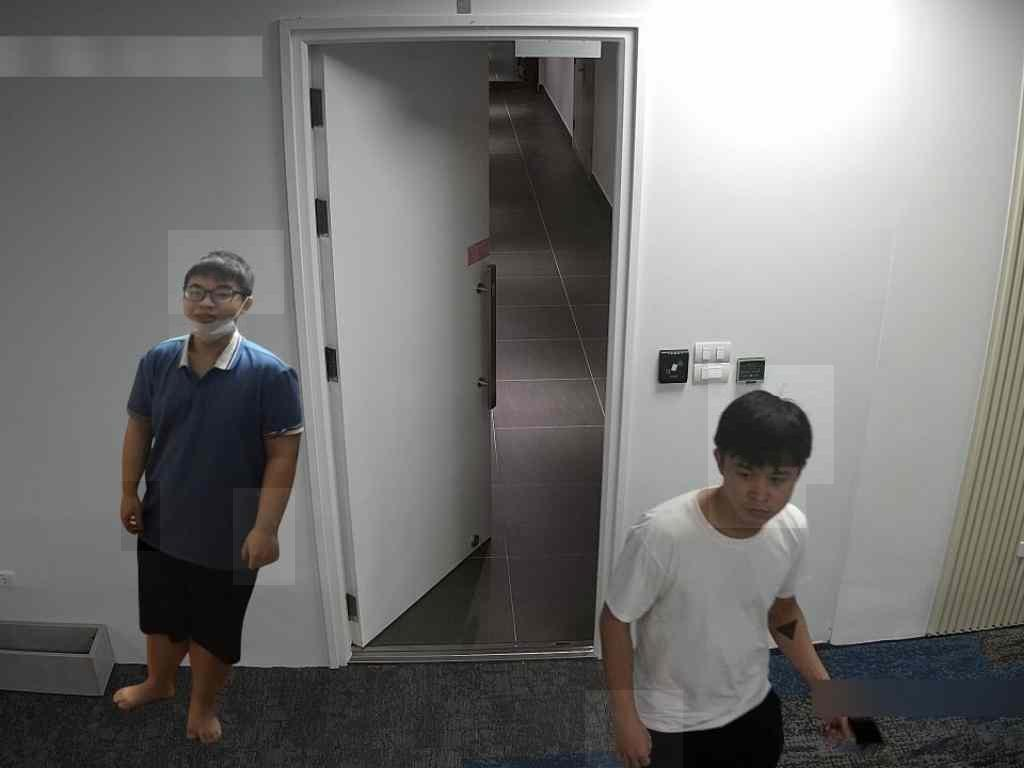no_apron: (585, 690, 683, 768), (234, 488, 296, 585), (121, 481, 160, 551)
no_gloves: (708, 366, 834, 484), (168, 230, 284, 314)
no_hairnet: (709, 419, 806, 528), (169, 296, 246, 344)
